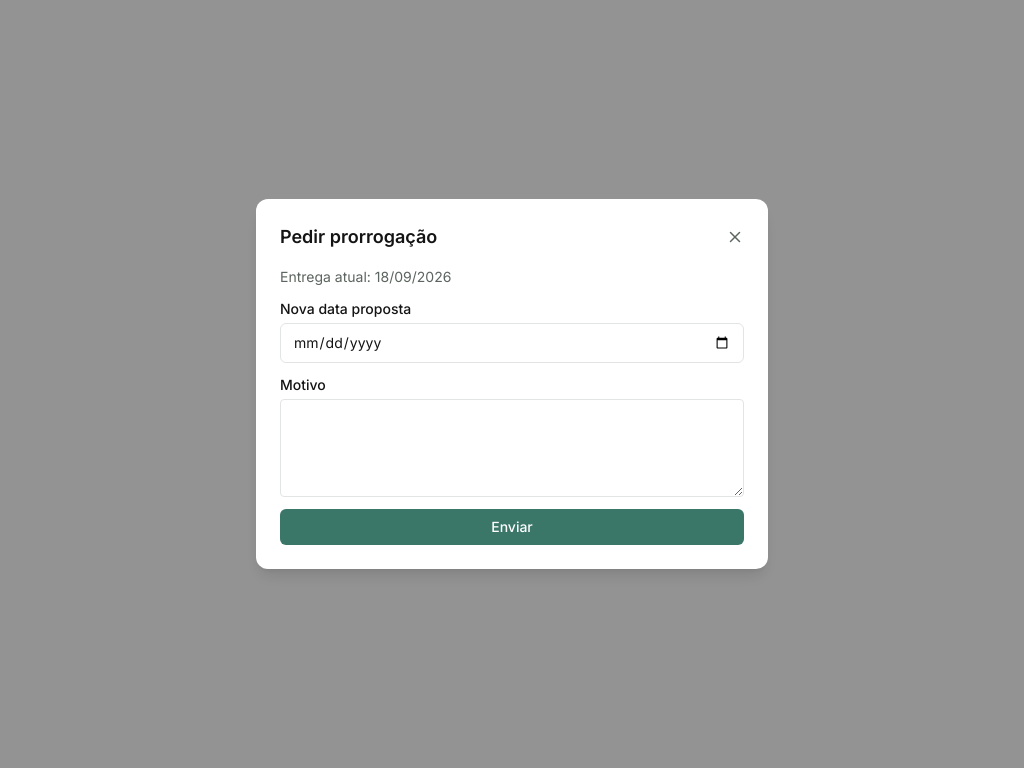
Test: ExtensionModal › exige nova data e motivo antes de enviar
The image size is (1024, 768).
Click the button "Enviar": coordinates (512, 527) [280, 509, 744, 545]
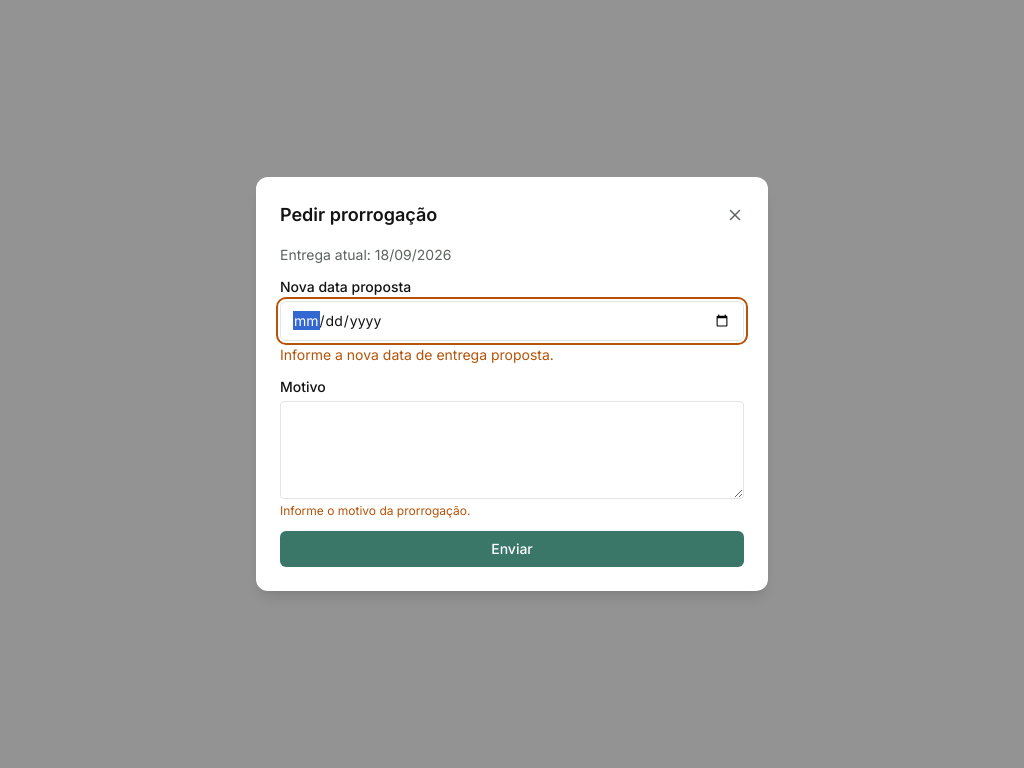
Result: the text "Informe a nova data de entrega proposta." is shown at [280, 346, 554, 363]
Result: the text "Informe o motivo da prorrogação." is shown at [280, 503, 470, 518]
